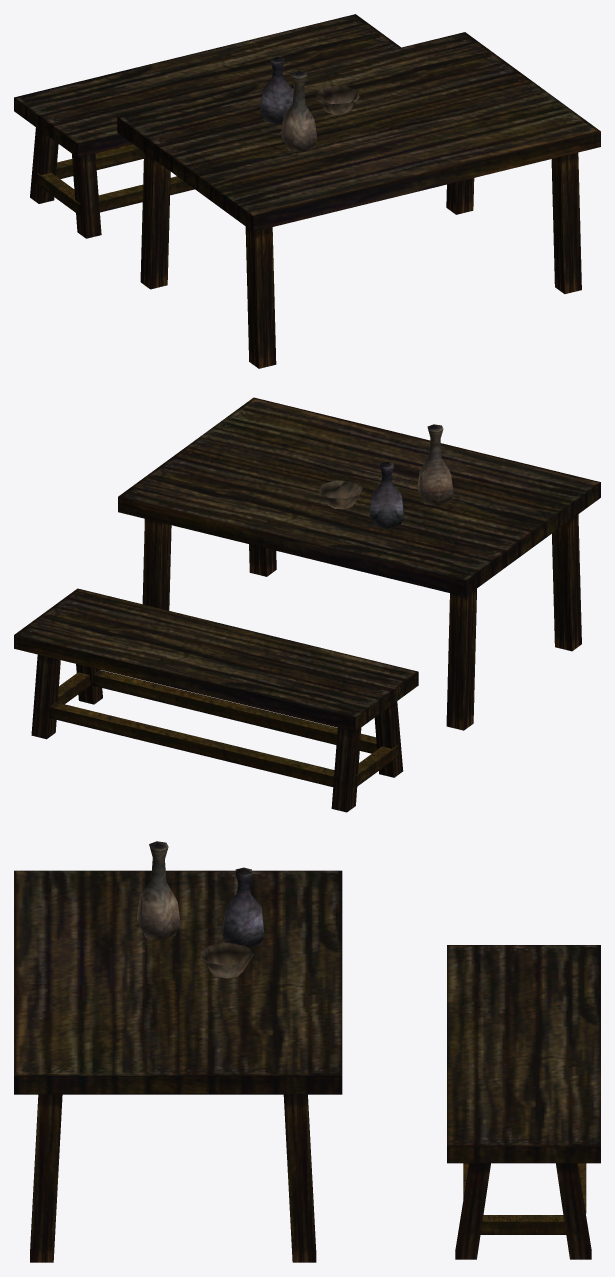
The picture shows the model from 3 angles, top to bottom: view 1: azimuth 30°, elevation 25°; view 2: azimuth 150°, elevation 25°; view 3: azimuth 270°, elevation 25°; orthographic projection. The views are drawn at different scales.
Parts seen in each view (by area): view 1: Sphere01; view 2: Sphere01; view 3: Sphere01.
Boxes of the visible parts, x1=… form: Sphere01: x1=14, y1=14, x2=600, y2=368; Sphere01: x1=14, y1=397, x2=600, y2=812; Sphere01: x1=14, y1=841, x2=600, y2=1262.
Size of the model in its own units: 2.05 by 1.31 by 2.48.
1 material, 1 textured.
